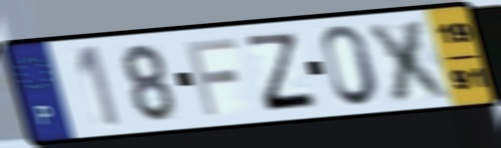0: (319, 23, 381, 108)
1: (71, 43, 122, 131)
8: (120, 42, 177, 124)
F: (183, 34, 241, 118)
X: (362, 15, 459, 104)
Z: (243, 32, 321, 114)
